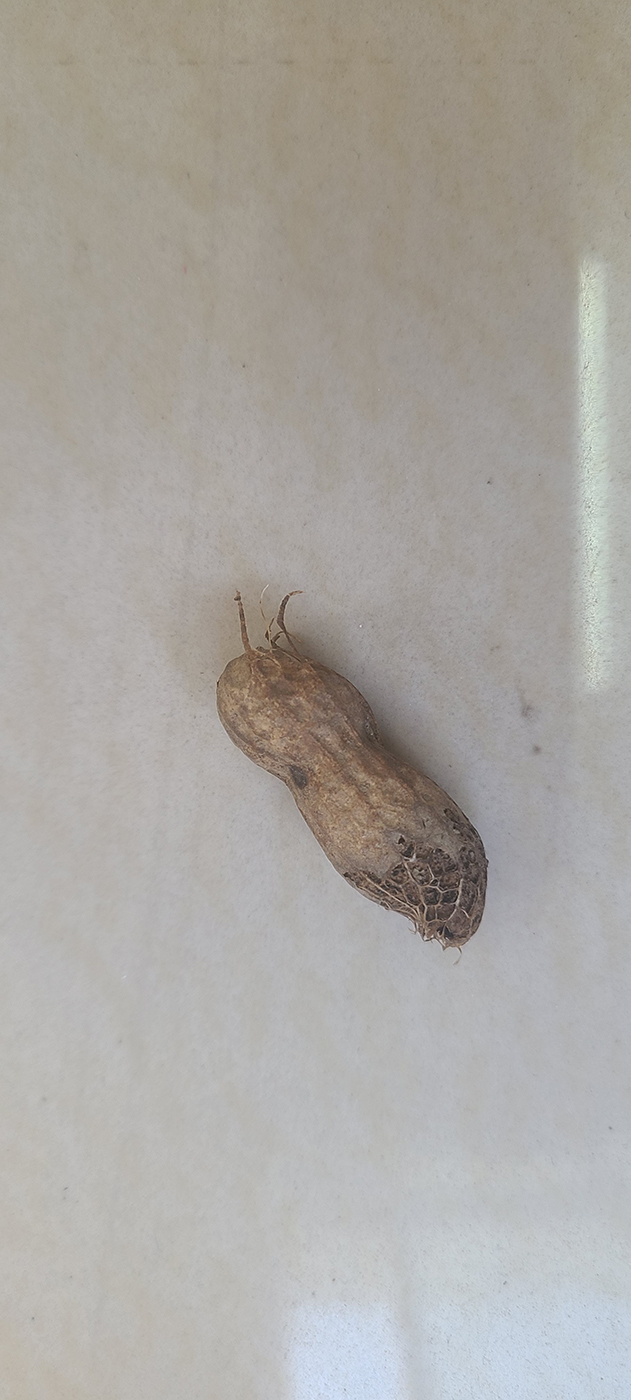l: (211, 650, 488, 941)
